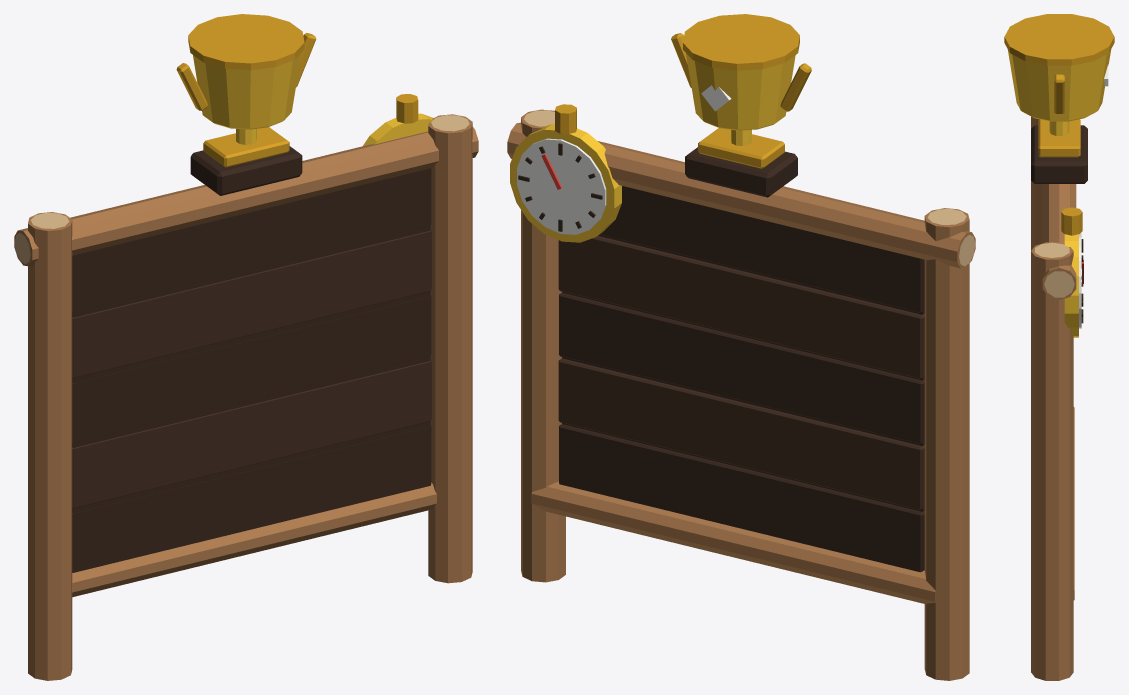
Rendered from trophy_board.glb.
3 views of the same model, side by side, from view 1: azimuth 30°, elevation 25°; view 2: azimuth 150°, elevation 25°; view 3: azimuth 270°, elevation 25° (orthographic). The views are drawn at different scales.
Visible parts, largest first — view 1: WoodPlanks__3A281E, Wood__B07C4E, WoodPlanks__422E22, SmoothPlastic__D69E20, SmoothPlastic__FAC832, Wood__DEBC8C; view 2: WoodPlanks__3A281E, Wood__B07C4E, WoodPlanks__422E22, SmoothPlastic__D69E20, SmoothPlastic__FAC832, SmoothPlastic__F5F5F0, Wood__DEBC8C; view 3: Wood__B07C4E, SmoothPlastic__D69E20, SmoothPlastic__FAC832, WoodPlanks__3A281E, Wood__DEBC8C, SmoothPlastic__F5F5F0.
Part boxes in pixels (bbox=[...]): WoodPlanks__3A281E: bbox=[72, 146, 431, 572]; Wood__B07C4E: bbox=[14, 114, 478, 680]; WoodPlanks__422E22: bbox=[72, 230, 431, 508]; SmoothPlastic__D69E20: bbox=[176, 14, 418, 167]; SmoothPlastic__FAC832: bbox=[193, 53, 433, 145]; Wood__DEBC8C: bbox=[14, 115, 469, 264]; WoodPlanks__3A281E: bbox=[518, 143, 924, 572]; Wood__B07C4E: bbox=[507, 109, 975, 680]; WoodPlanks__422E22: bbox=[558, 236, 924, 510]; SmoothPlastic__D69E20: bbox=[555, 14, 811, 168]; SmoothPlastic__FAC832: bbox=[510, 53, 795, 242]; SmoothPlastic__F5F5F0: bbox=[517, 85, 731, 234]; Wood__DEBC8C: bbox=[524, 110, 975, 266]; Wood__B07C4E: bbox=[1031, 116, 1076, 680]; SmoothPlastic__D69E20: bbox=[1004, 14, 1114, 235]; SmoothPlastic__FAC832: bbox=[1007, 49, 1111, 337]; WoodPlanks__3A281E: bbox=[1031, 125, 1087, 323]; Wood__DEBC8C: bbox=[1035, 242, 1074, 297]; SmoothPlastic__F5F5F0: bbox=[1079, 64, 1108, 328].
Size of the model in its own units: 13.64 by 16.92 by 3.1.
